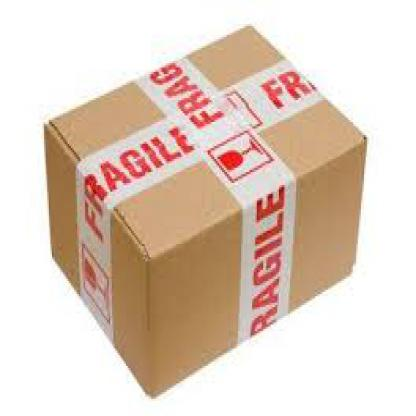paquete: (36, 15, 382, 401)
